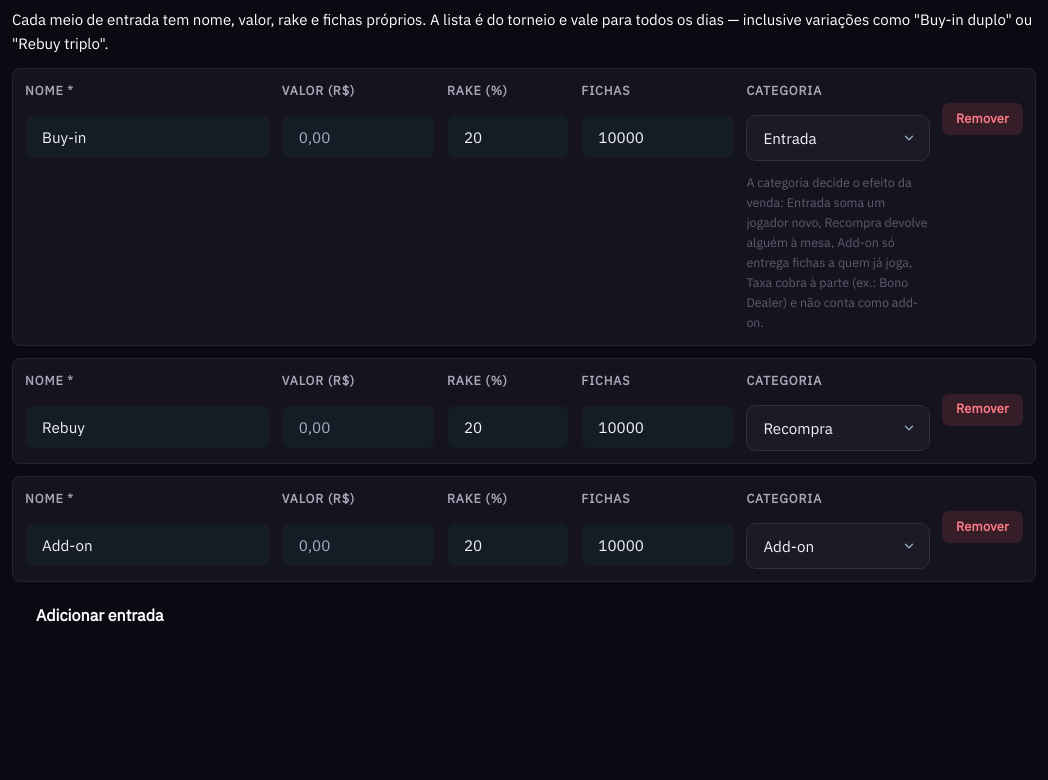
Test: remover › não deixa ficar sem NENHUM meio de Entrada
This screenshot has width=1048, height=780.
Click the 1st button "Remover".
click(982, 119)  # box x1=942 y1=103 x2=1023 y2=135
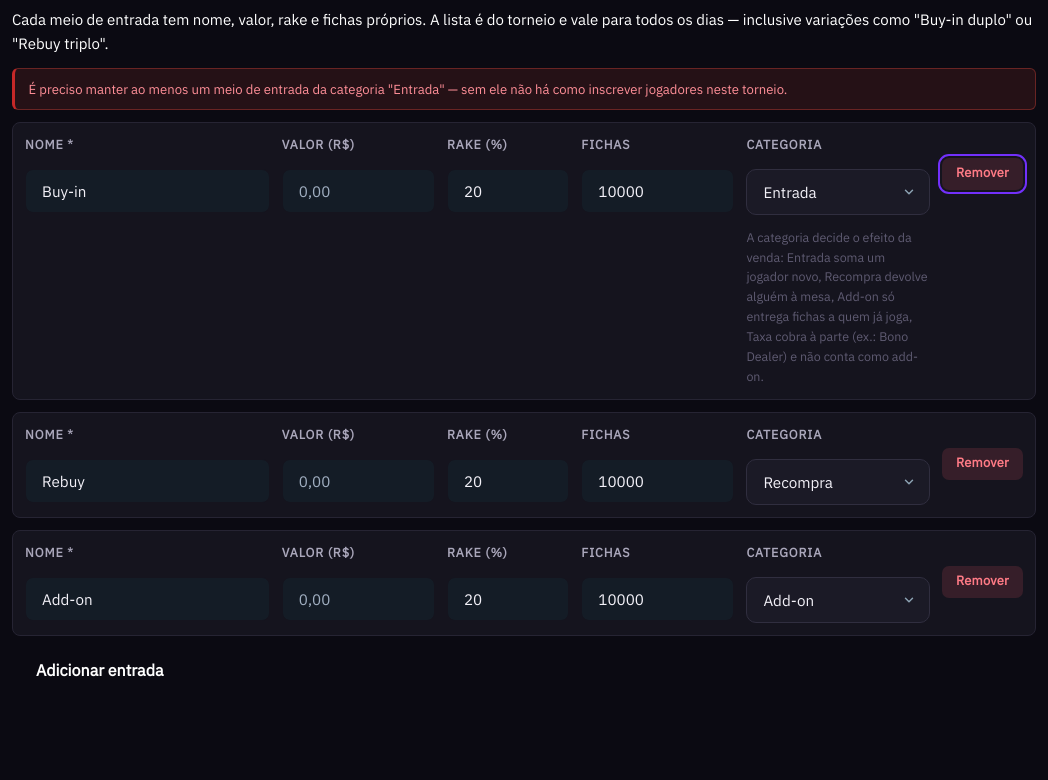
Expected: the message shows "ao menos um meio de entrada", x1=29 y1=81 x2=787 y2=98
